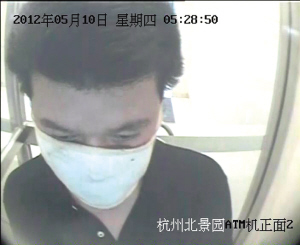face_mask: (26, 67, 158, 206)
